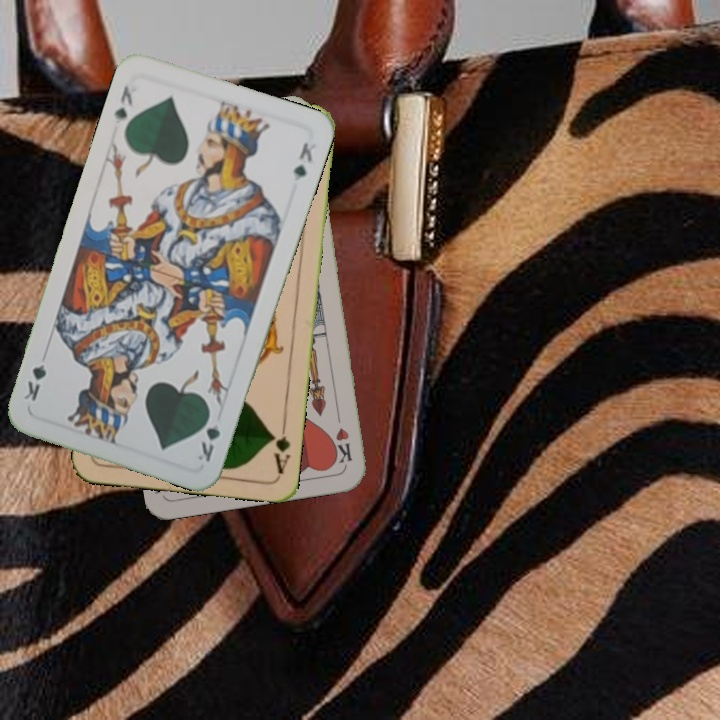GA: (267, 417, 293, 477)
GK: (193, 407, 223, 465), (110, 81, 136, 128)
HK: (330, 407, 355, 465)
